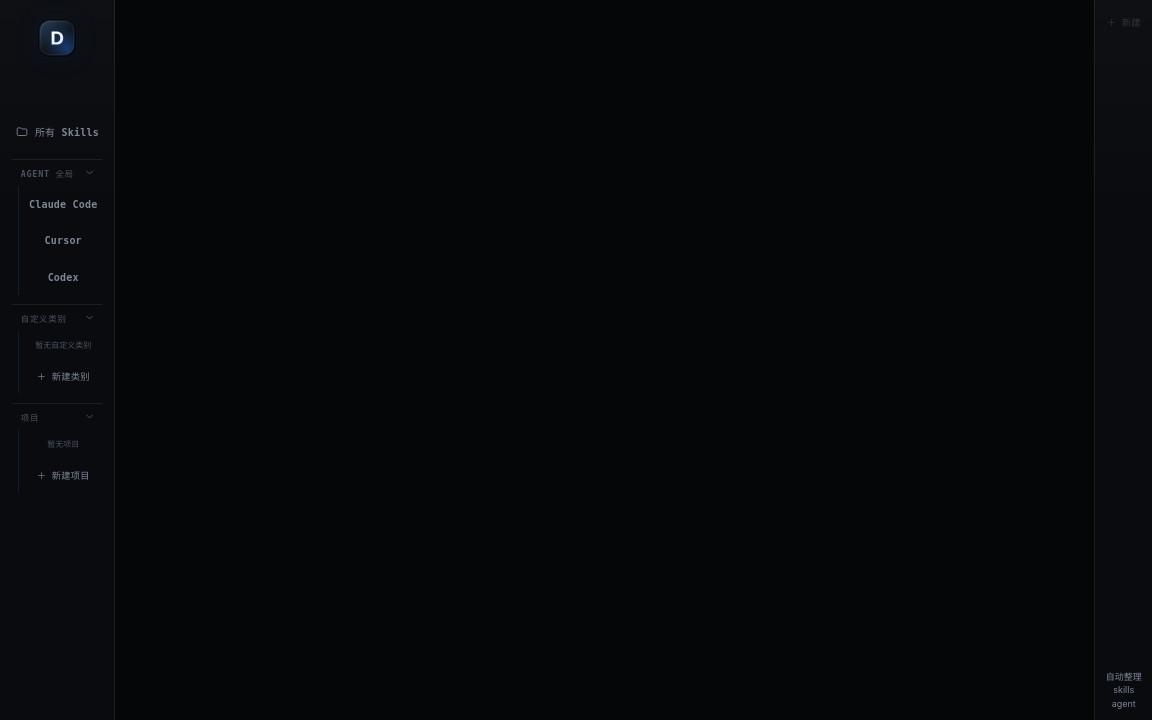
Test: left category groups › opens the custom category composer from the enabled create button
Click the button with aria-label "新建自定义类别".
click(63, 376)  # box x1=24 y1=360 x2=102 y2=392
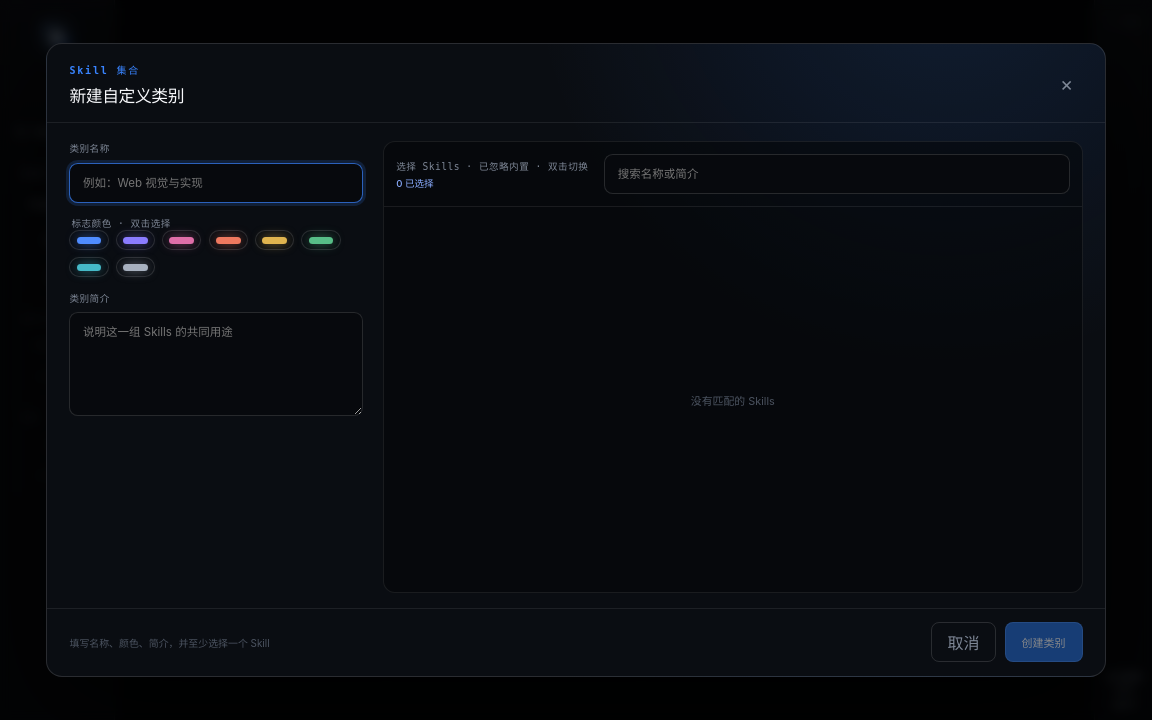
Now the dialog "新建自定义类别" is shown
